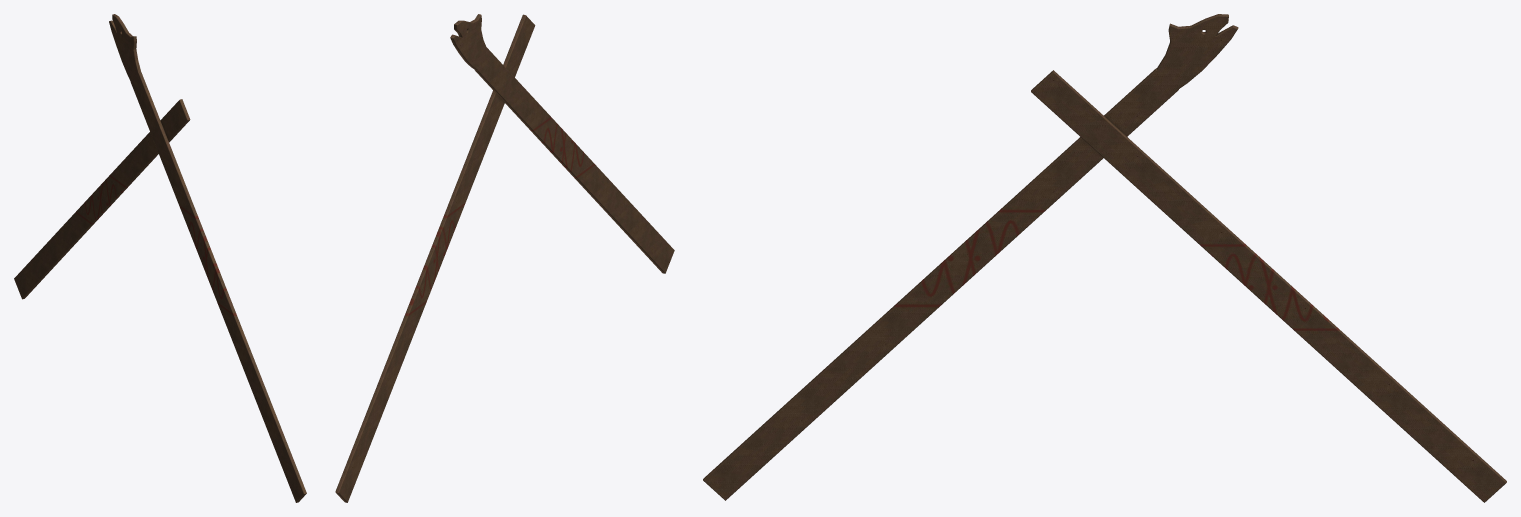
Rendered from gable_finial.glb.
The picture shows the model from 3 angles, left to right: view 1: azimuth 30°, elevation 25°; view 2: azimuth 150°, elevation 25°; view 3: azimuth 270°, elevation 25°; orthographic projection. The views are drawn at different scales.
Visible parts, largest first — view 1: gable_finial; view 2: gable_finial; view 3: gable_finial.
Boxes of the visible parts, bbox=[...] form: gable_finial: bbox=[14, 14, 306, 502]; gable_finial: bbox=[335, 14, 674, 502]; gable_finial: bbox=[703, 14, 1506, 502].
Size of the model in its own units: 0.12 by 6.38 by 9.58.
Materials: 1 (1 with a texture image).
